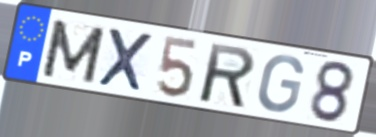5: (153, 33, 201, 100)
8: (307, 59, 356, 124)
G: (255, 54, 306, 115)
M: (39, 17, 109, 86)
R: (199, 41, 257, 111)
X: (95, 24, 156, 95)
